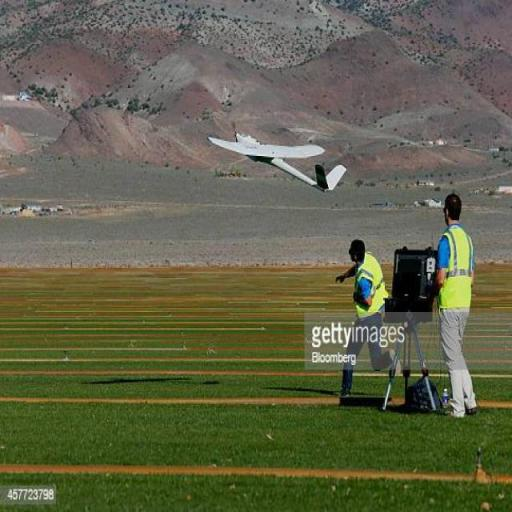uav: (204, 116, 351, 202)
